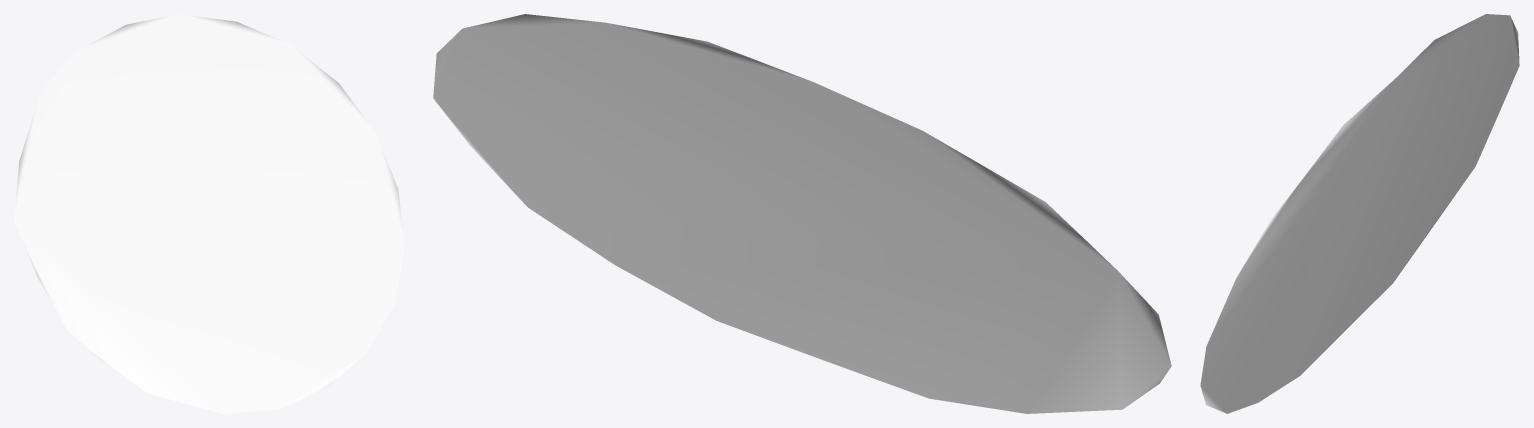
The picture shows the model from 3 angles, left to right: view 1: azimuth 30°, elevation 25°; view 2: azimuth 150°, elevation 25°; view 3: azimuth 270°, elevation 25°; orthographic projection. The views are drawn at different scales.
Size of the model in its own units: 0.0845 by 0.0648 by 0.0548.
1 material, 1 textured.
